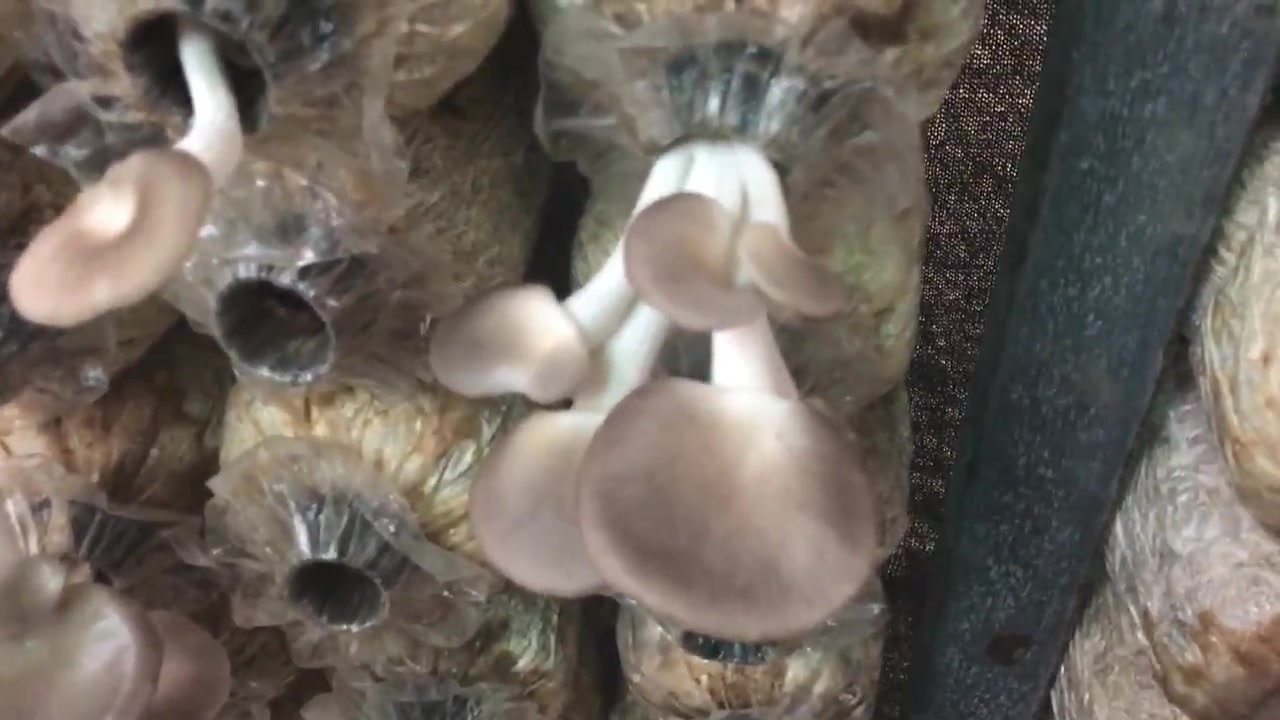nam: (432, 77, 873, 635), (10, 1, 299, 328), (1, 557, 234, 720)
